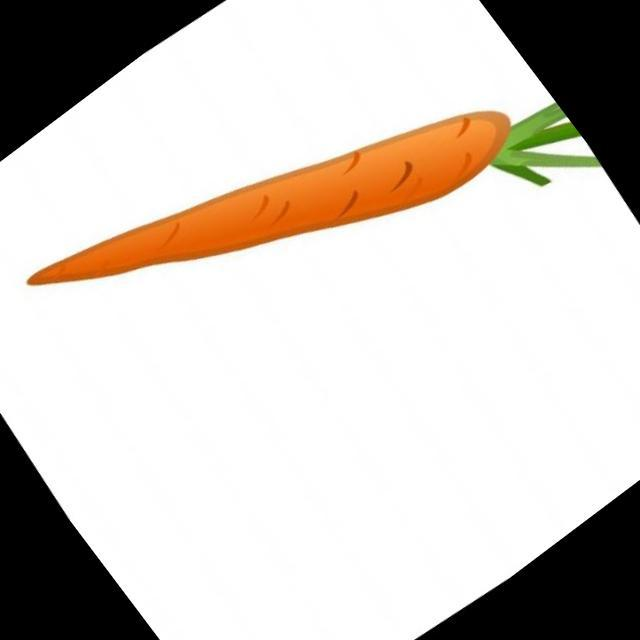carrot: (0, 0, 538, 464)
